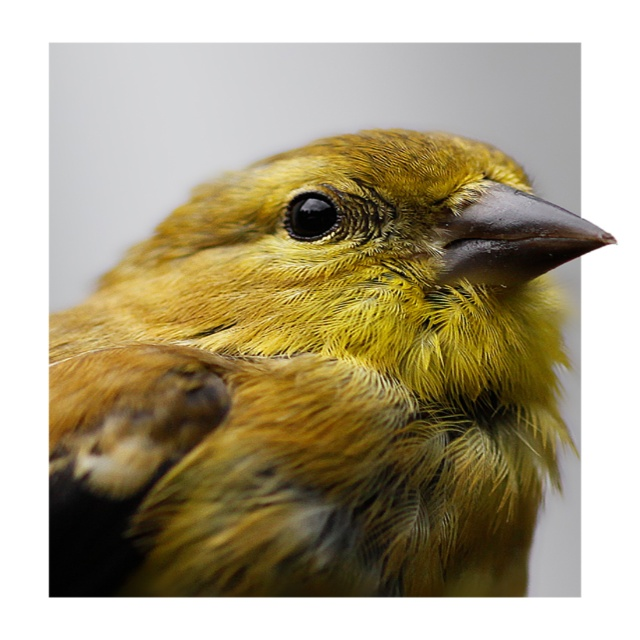Canary: (45, 125, 617, 597)
